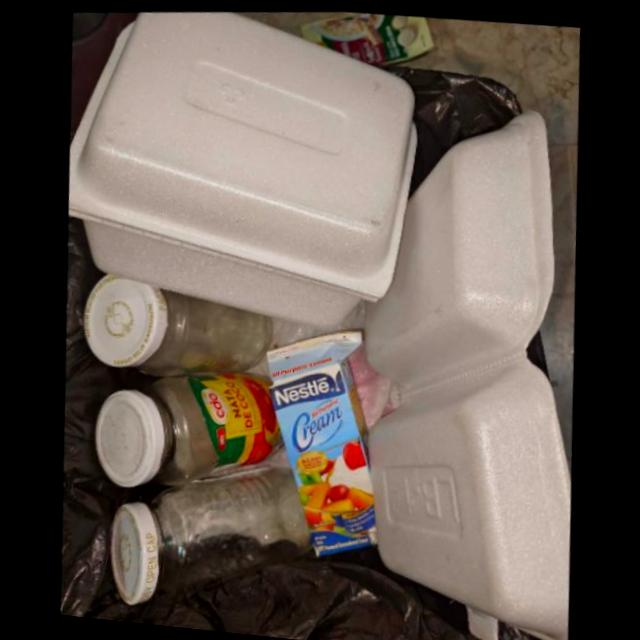chai_thuy_tinh: (109, 459, 312, 601), (95, 369, 284, 483), (83, 269, 272, 373)
vo_hop_sua: (266, 327, 376, 555)
xop: (68, 7, 417, 323), (363, 110, 570, 640)
